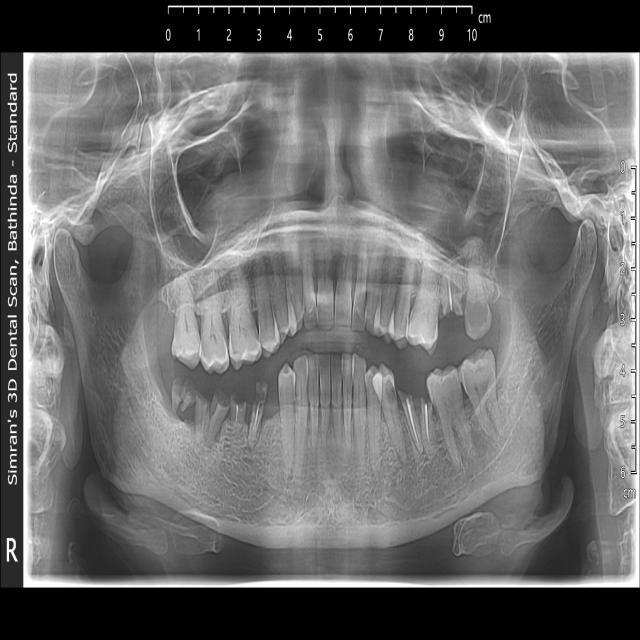Caries: (466, 299, 487, 330), (329, 251, 346, 283), (385, 377, 395, 410)
Mandibular Canal: (381, 354, 542, 513), (123, 385, 274, 513)
Missing teeth: (262, 379, 282, 423)
Root Piece: (193, 391, 230, 449), (247, 384, 268, 446), (419, 392, 437, 464), (400, 396, 421, 455), (441, 268, 463, 322), (170, 377, 196, 420), (229, 399, 246, 443)
maxillary sinus: (384, 85, 511, 269), (150, 99, 282, 268)
